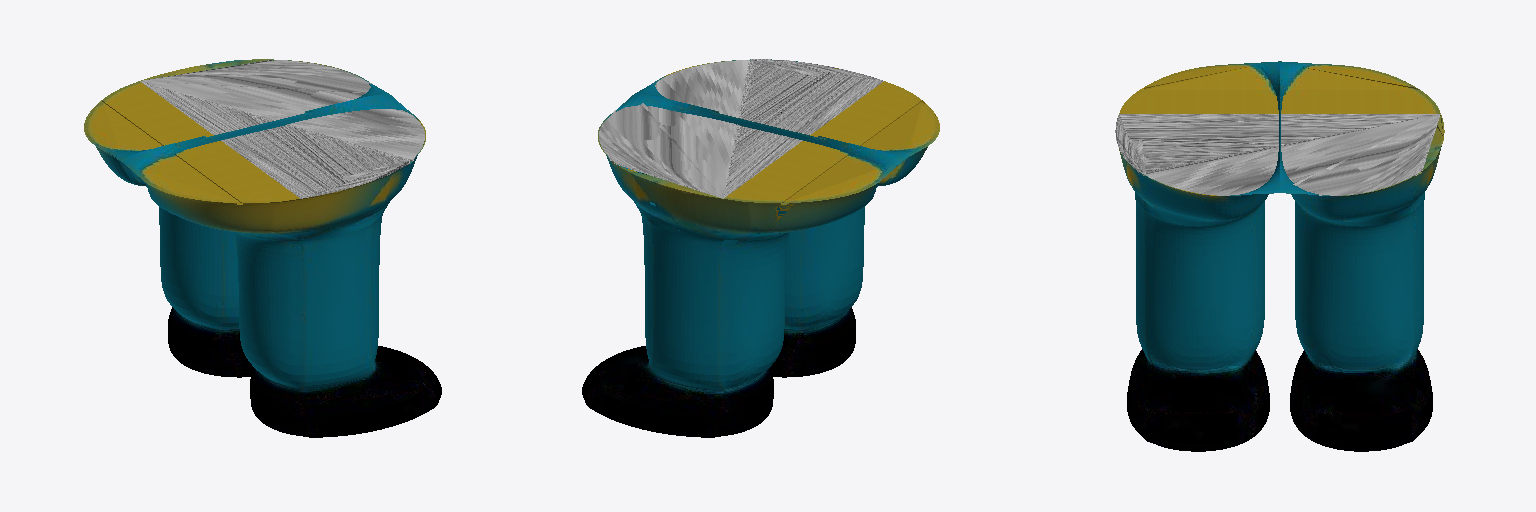
3 views of the same model, side by side, from view 1: azimuth 30°, elevation 25°; view 2: azimuth 150°, elevation 25°; view 3: azimuth 270°, elevation 25° (orthographic).
Visible parts, largest first — view 1: obj5.188; view 2: obj5.188; view 3: obj5.188.
Boxes of the visible parts, x1=… form: obj5.188: x1=84, y1=59, x2=441, y2=437; obj5.188: x1=582, y1=59, x2=939, y2=437; obj5.188: x1=1115, y1=61, x2=1444, y2=451.
Bounding box in the file's own units: 3.7 × 3.45 × 3.88.
2 materials, 2 textured.